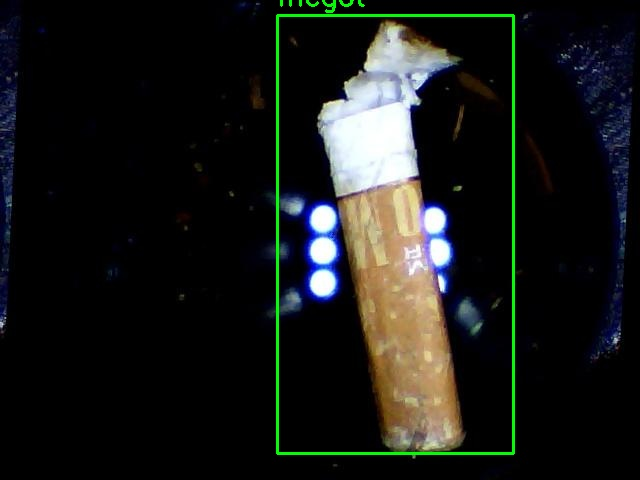megot: (277, 15, 513, 453)
